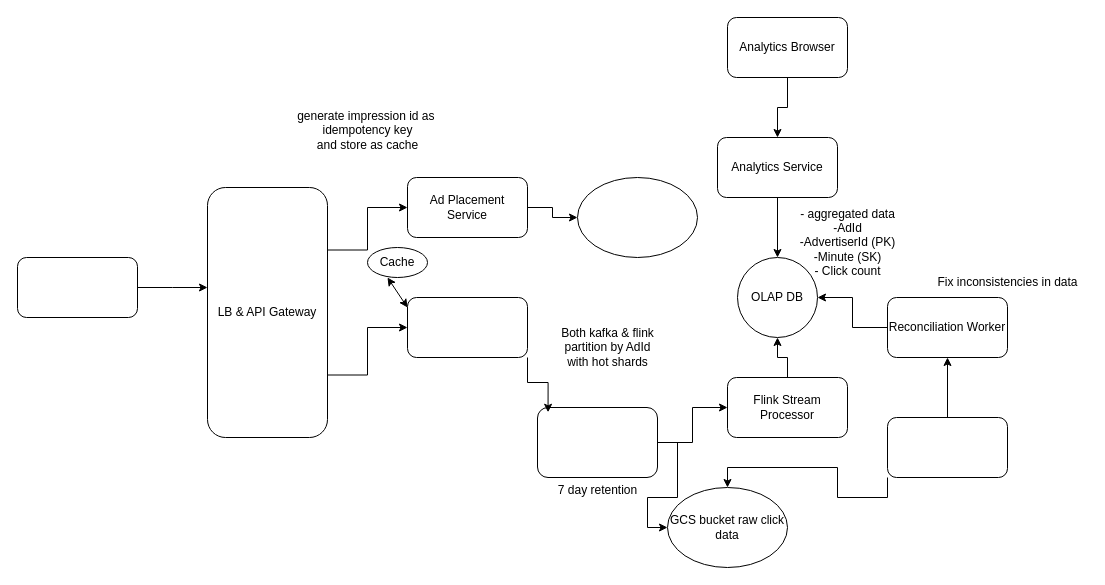
This 1105x585 diagram has some shape labels left out. Here are the shapes that lost their labels. From the top down, the centre of each, then its label:
At (x=637, y=217): "Ad Db".
At (x=77, y=287): "Browser".
At (x=467, y=327): "Click Processor Service".
At (x=597, y=442): "KAFKA".
At (x=947, y=447): "Spark Map Reduce job".
